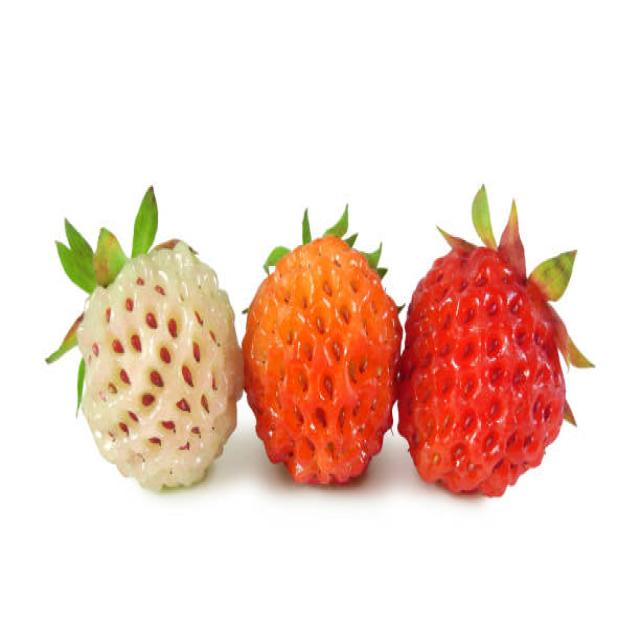Healthy Fruit: (398, 244, 562, 500), (77, 244, 247, 488), (242, 236, 405, 481)
